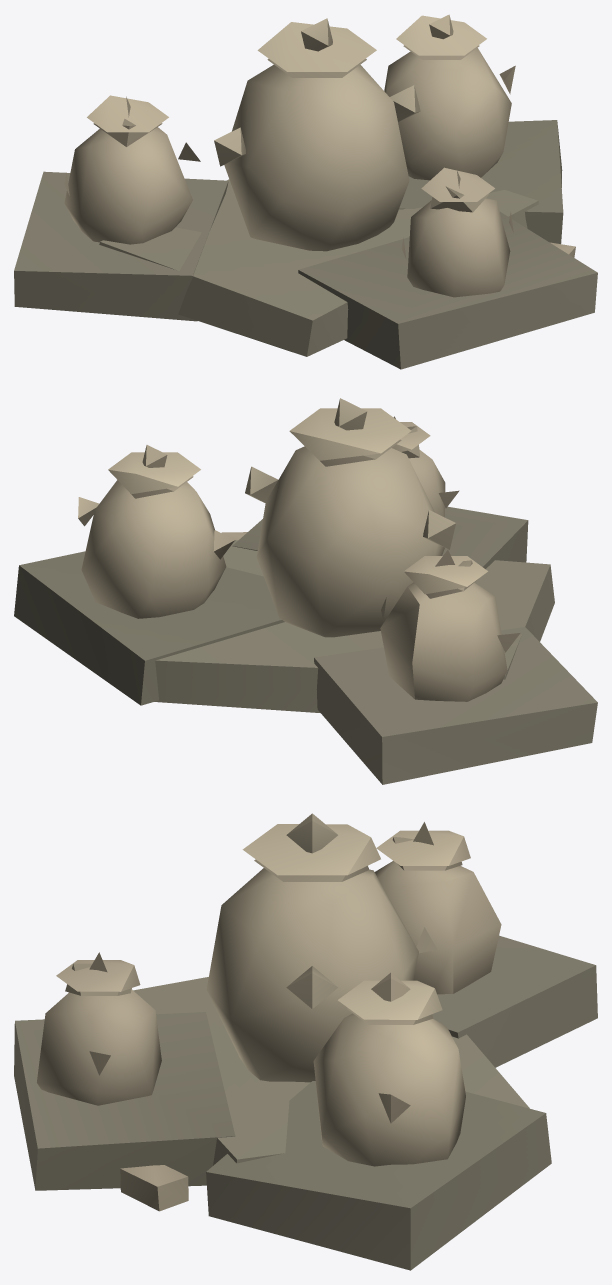
Rendered from granary_jars_a_lod2.glb.
3 renders of one model, top to bottom at view 1: azimuth 30°, elevation 25°; view 2: azimuth 150°, elevation 25°; view 3: azimuth 270°, elevation 25°, orthographic. The views are drawn at different scales.
Parts seen in each view (by area): view 1: Surface.001; view 2: Surface.001; view 3: Surface.001.
Boxes of the visible parts, x1=… form: Surface.001: x1=14, y1=14, x2=597, y2=369; Surface.001: x1=14, y1=398, x2=597, y2=784; Surface.001: x1=14, y1=813, x2=597, y2=1270.
Size of the model in its own units: 3.37 by 1.44 by 2.6.
